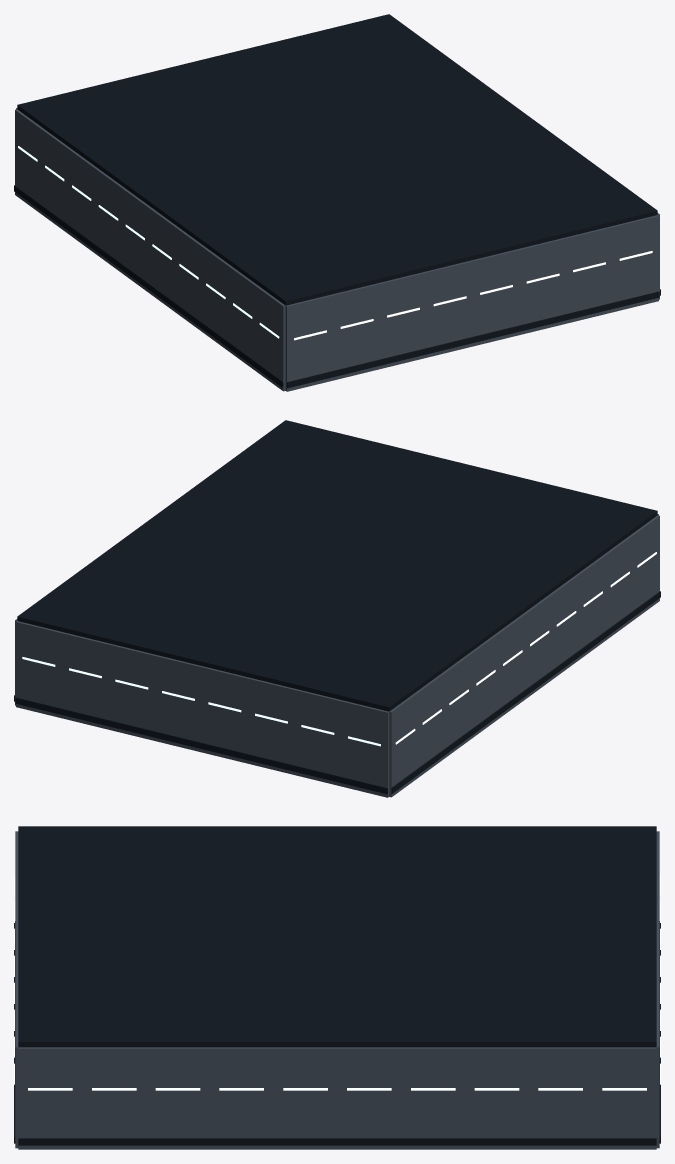
File: np_z03_zone_entrepot_medical.glb
The picture shows the model from 3 angles, top to bottom: view 1: azimuth 30°, elevation 25°; view 2: azimuth 150°, elevation 25°; view 3: azimuth 270°, elevation 25°; orthographic projection. The views are drawn at different scales.
Visible parts, largest first — view 1: Panneau22, Panneau28, Panneau24, Panneau36, Panneau30, Panneau32, Panneau34, Panneau26, Panneau19, Panneau17, Panneau3, Panneau5 (+86 smaller); view 2: Panneau21, Panneau27, Panneau23, Panneau35, Panneau29, Panneau31, Panneau33, Panneau25, Panneau, Panneau3, Panneau13, Panneau17 (+86 smaller); view 3: Panneau2, Panneau10, Panneau20, Panneau12, Panneau4, Panneau6, Panneau8, Panneau14, Panneau16, Panneau18, Dalle142, Dalle150 (+90 smaller).
Boxes of the visible parts, box(x1,y1,x2,y2) form: Panneau22: box(285, 294, 333, 391); Panneau28: box(425, 260, 472, 357); Panneau24: box(332, 283, 379, 380); Panneau36: box(611, 215, 658, 312); Panneau30: box(472, 249, 519, 346); Panneau32: box(518, 237, 565, 334); Panneau34: box(565, 226, 612, 323); Panneau26: box(379, 272, 426, 368); Panneau19: box(256, 286, 285, 391); Panneau17: box(229, 266, 258, 371); Panneau3: box(41, 129, 70, 233); Panneau5: box(68, 148, 97, 253); Panneau21: box(341, 700, 389, 797); Panneau27: box(202, 666, 249, 763); Panneau23: box(295, 689, 342, 786); Panneau35: box(16, 621, 63, 718); Panneau29: box(155, 655, 202, 752); Panneau31: box(109, 643, 156, 740); Panneau33: box(62, 632, 109, 729); Panneau25: box(248, 678, 295, 774); Panneau: box(389, 692, 418, 797); Panneau3: box(416, 672, 445, 777); Panneau13: box(550, 574, 579, 678); Panneau17: box(604, 535, 633, 639); Panneau2: box(592, 1047, 656, 1149); Panneau10: box(337, 1047, 401, 1149); Panneau20: box(18, 1047, 82, 1149); Panneau12: box(273, 1047, 337, 1149); Panneau4: box(529, 1047, 592, 1149); Panneau6: box(465, 1047, 528, 1149); Panneau8: box(401, 1047, 464, 1149); Panneau14: box(210, 1047, 273, 1149); Panneau16: box(146, 1047, 209, 1149); Panneau18: box(82, 1047, 145, 1149); Dalle142: box(592, 1015, 656, 1047); Dalle150: box(337, 1015, 401, 1047).
Bounding box in the file's own units: 16.28 × 3.68 × 20.28.
